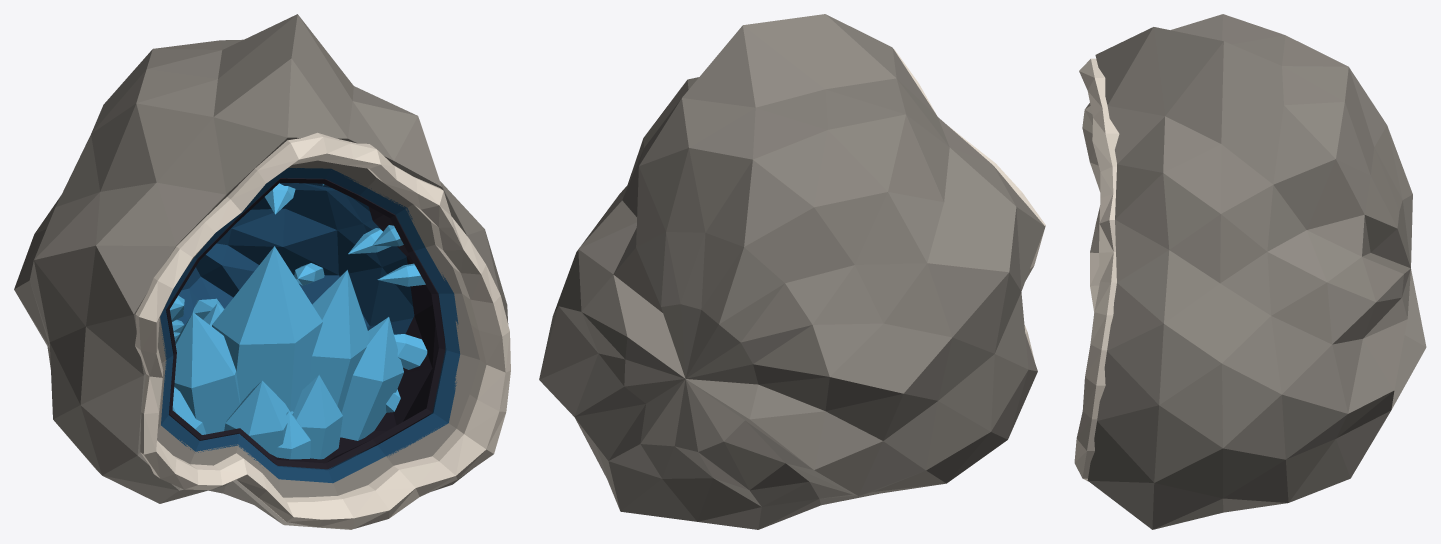
Rendered from Lodge_DisplayGeode_Blue.fbx.
The picture shows the model from 3 angles, left to right: view 1: azimuth 30°, elevation 25°; view 2: azimuth 150°, elevation 25°; view 3: azimuth 270°, elevation 25°; orthographic projection. The views are drawn at different scales.
Visible parts, largest first — view 1: Shell, Rim, Lining, Crystal1, Crystal2, Shade, Crystal3, Druse; view 2: Shell, Rim; view 3: Shell, Rim.
Boxes of the visible parts, x1,y1,x2,y2 form: Shell: (14,14,508,529); Rim: (135,132,510,528); Lining: (160,168,460,483); Crystal1: (172,246,342,459); Crystal2: (174,312,403,459); Shade: (166,178,445,469); Crystal3: (203,270,369,455); Druse: (170,183,427,412); Shell: (539,14,1045,529); Rim: (894,49,1045,360); Shell: (1087,14,1426,529); Rim: (1074,58,1119,481).
Size of the model in its own units: 3.23 by 3.29 by 2.41.
